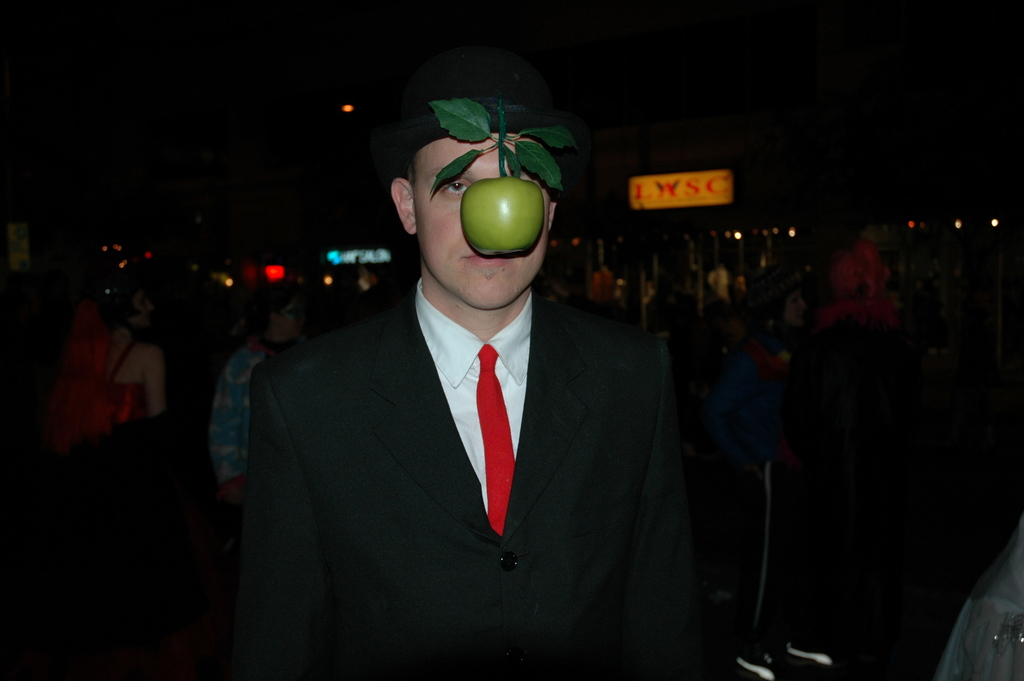Apple: (456, 172, 554, 276)
